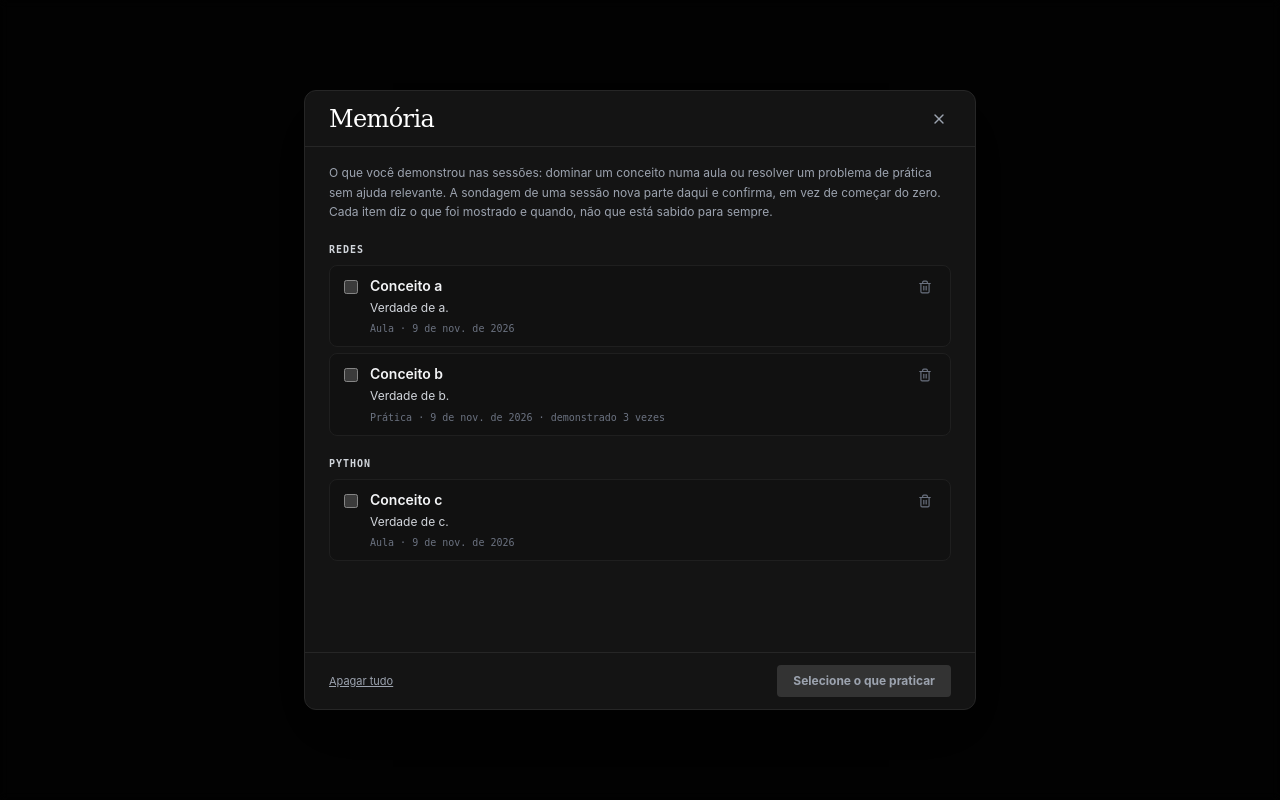
it: memory screen (A2) › erases one item
Click the button named "Apagar Conceito a da memória" at (925, 286), box [914, 276, 936, 298]
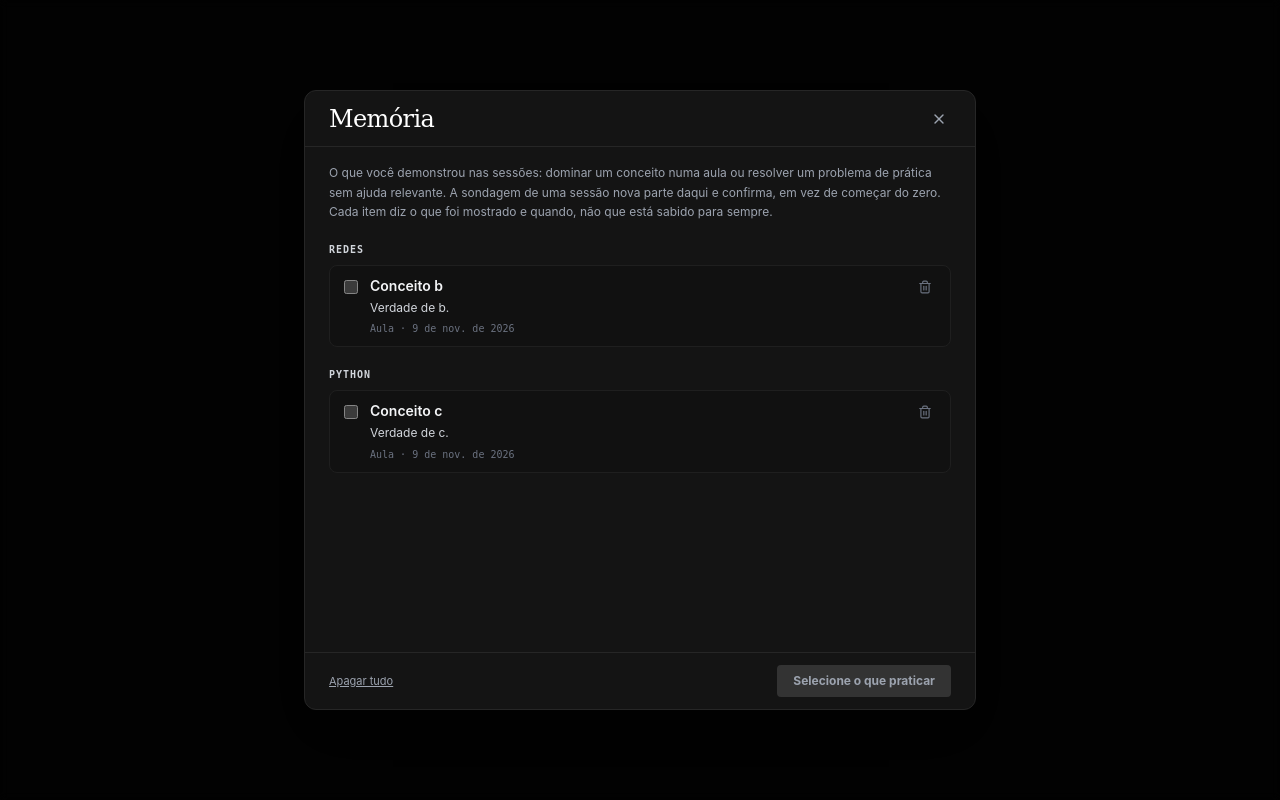
Expected: the number of list items with test id "memory-entry" is 2, [329, 264, 951, 347]; [329, 390, 951, 472]
